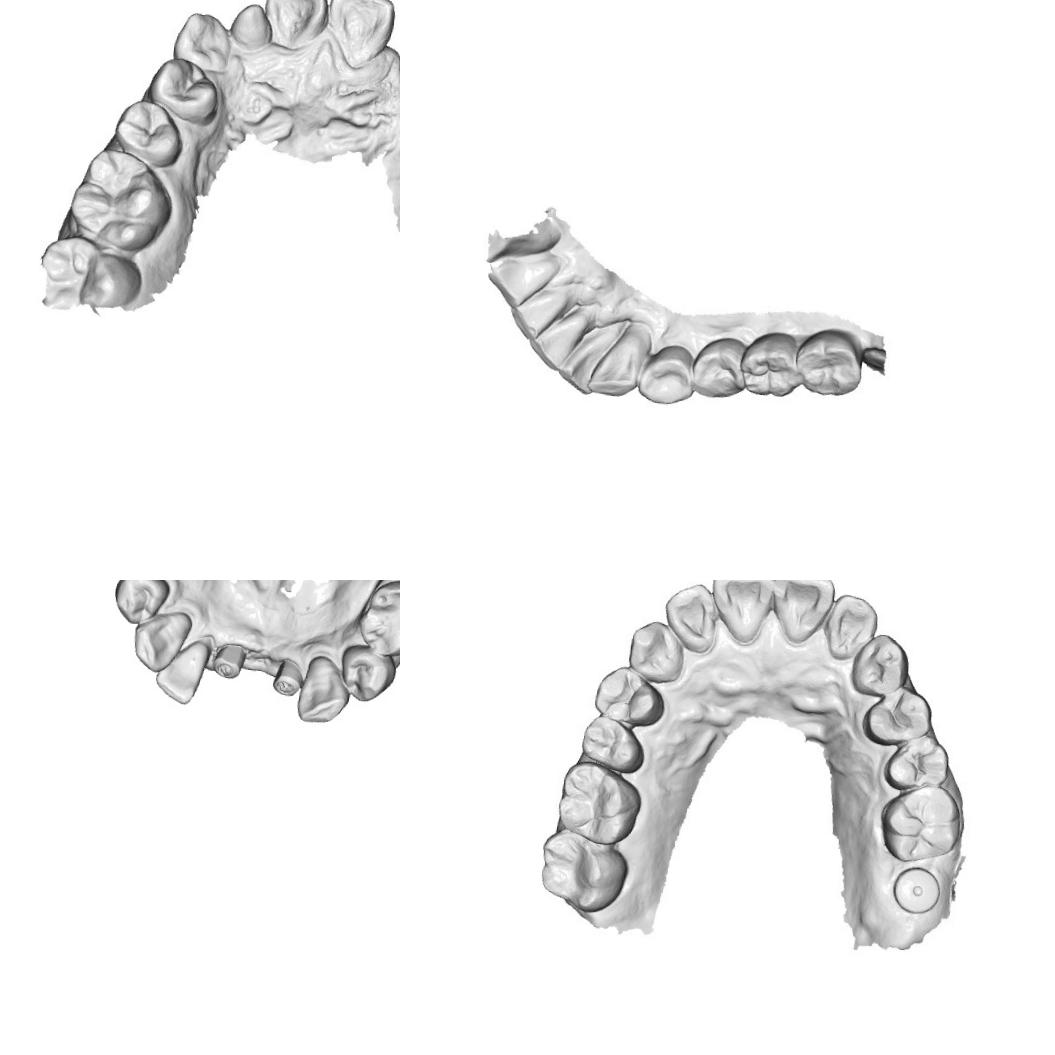canine: (294, 652, 355, 727), (128, 606, 194, 675), (849, 628, 913, 698), (588, 320, 648, 394), (622, 618, 688, 685), (176, 9, 236, 75)
implant: (888, 861, 947, 918), (268, 654, 306, 699), (208, 638, 248, 680)
incisor: (557, 316, 627, 389), (658, 580, 723, 658), (326, 0, 396, 70), (766, 580, 837, 645), (706, 580, 777, 645), (483, 246, 558, 306), (526, 302, 592, 368), (152, 636, 211, 706), (824, 592, 879, 660), (510, 281, 571, 341), (262, 0, 332, 51), (229, 0, 273, 48)
molar: (68, 148, 170, 248), (532, 826, 631, 916), (874, 778, 966, 867), (554, 759, 646, 846), (796, 328, 865, 401), (739, 332, 804, 399), (352, 580, 400, 660)
premolar: (856, 684, 934, 751), (573, 712, 652, 777), (590, 661, 666, 728), (880, 730, 951, 796), (114, 99, 181, 165), (151, 56, 214, 119), (336, 643, 398, 706), (635, 343, 695, 405), (692, 335, 744, 396), (110, 580, 172, 627)
